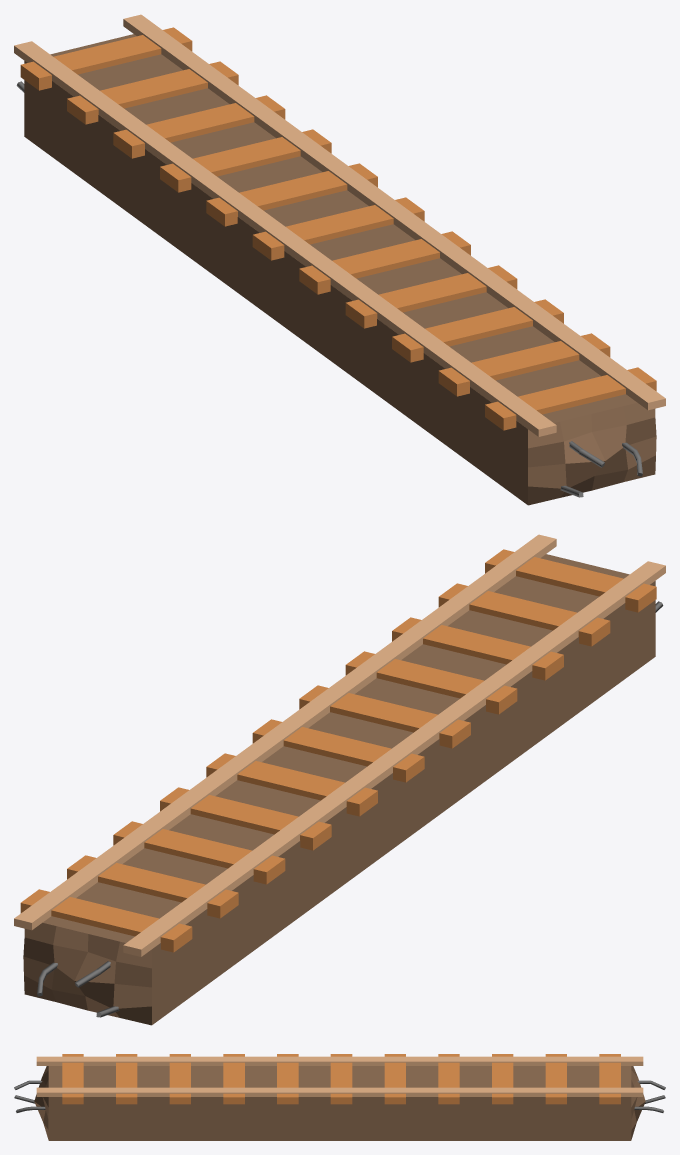
Rendered from BrokenTrack.fbx.
3 views of the same model, one above another, from view 1: azimuth 30°, elevation 25°; view 2: azimuth 150°, elevation 25°; view 3: azimuth 270°, elevation 25° (orthographic). The views are drawn at different scales.
Visible parts, largest first — view 1: Broken Track, TrackPlys1, Tracks1, MetalBars; view 2: Broken Track, TrackPlys1, Tracks1, MetalBars; view 3: Broken Track, Tracks1, TrackPlys1, MetalBars.
Part boxes in pixels (box(x1,y1,x2,y2)): Broken Track: box(24, 34, 656, 505); TrackPlys1: box(20, 27, 656, 430); Tracks1: box(14, 14, 665, 436); MetalBars: box(16, 81, 642, 497); Broken Track: box(23, 554, 655, 1025); TrackPlys1: box(20, 549, 656, 952); Tracks1: box(14, 534, 665, 956); MetalBars: box(37, 601, 663, 1017); Broken Track: box(34, 1066, 645, 1140); Tracks1: box(36, 1056, 643, 1096); TrackPlys1: box(62, 1054, 620, 1104); MetalBars: box(14, 1080, 665, 1112).
Size of the model in its own units: 169 by 88.34 by 1074.
